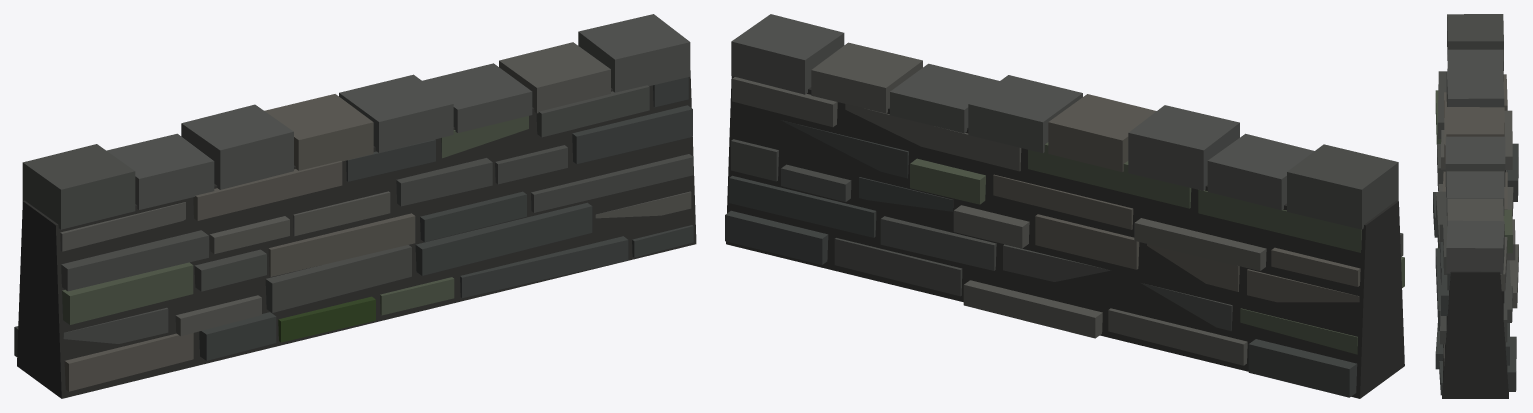
Rendered from drystone-wall.glb.
3 views of the same model, side by side, from view 1: azimuth 30°, elevation 25°; view 2: azimuth 150°, elevation 25°; view 3: azimuth 270°, elevation 25° (orthographic). The views are drawn at different scales.
Visible parts, largest first — view 1: drystone-wall; view 2: drystone-wall; view 3: drystone-wall.
Part boxes in pixels (x1,y1,x2,y2): drystone-wall: [14, 14, 696, 398]; drystone-wall: [725, 14, 1404, 398]; drystone-wall: [1433, 14, 1518, 398].
Size of the model in its own units: 4 by 1.24 by 0.6262.
